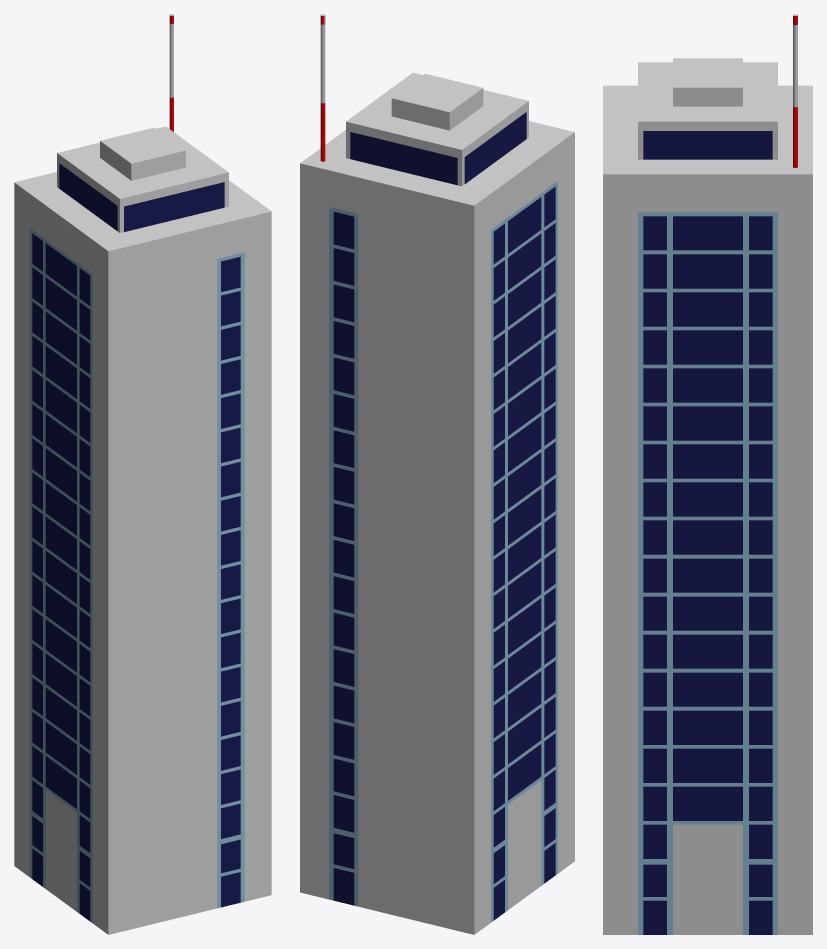
Rendered from gedung putih.glb.
The picture shows the model from 3 angles, left to right: view 1: azimuth 30°, elevation 25°; view 2: azimuth 150°, elevation 25°; view 3: azimuth 270°, elevation 25°; orthographic projection. The views are drawn at different scales.
Visible parts, largest first — view 1: Gedung putih; view 2: Gedung putih; view 3: Gedung putih.
Boxes of the visible parts, x1,y1,x2,y2 form: Gedung putih: (14,14,271,934); Gedung putih: (300,14,574,934); Gedung putih: (603,14,812,934).
Size of the model in its own units: 5 by 24 by 5.
